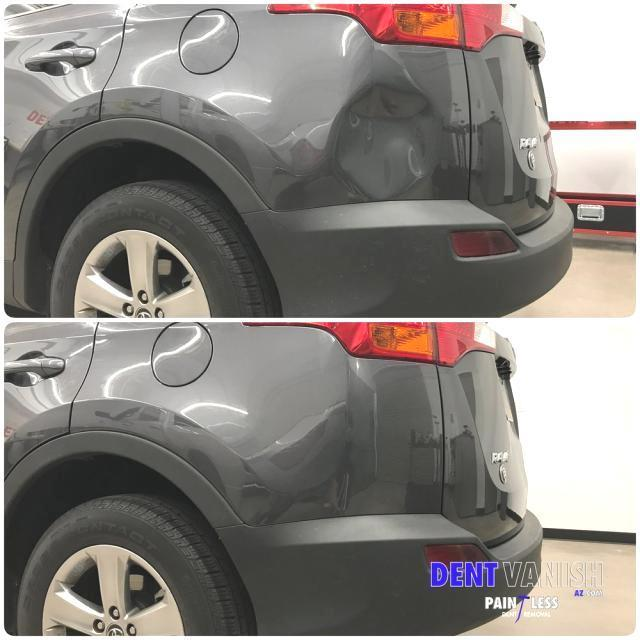minor: (323, 67, 460, 205)
